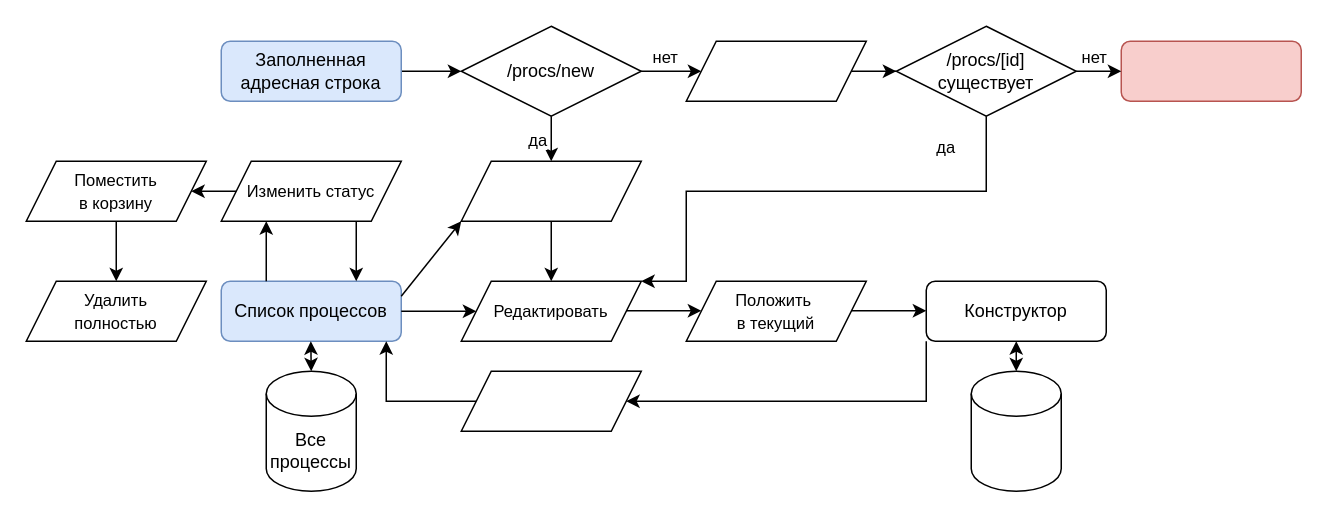
This 1328x518 diagram has some shape labels left out. Each missing label, with the centre of its shape:
"Проверка на существование" goes at [775,70].
"Процесс не существует" goes at [1210,70].
"Создать новый процесс" goes at [550,190].
"Сохранить" goes at [550,400].
"Текущий процесс" goes at [1015,430].
